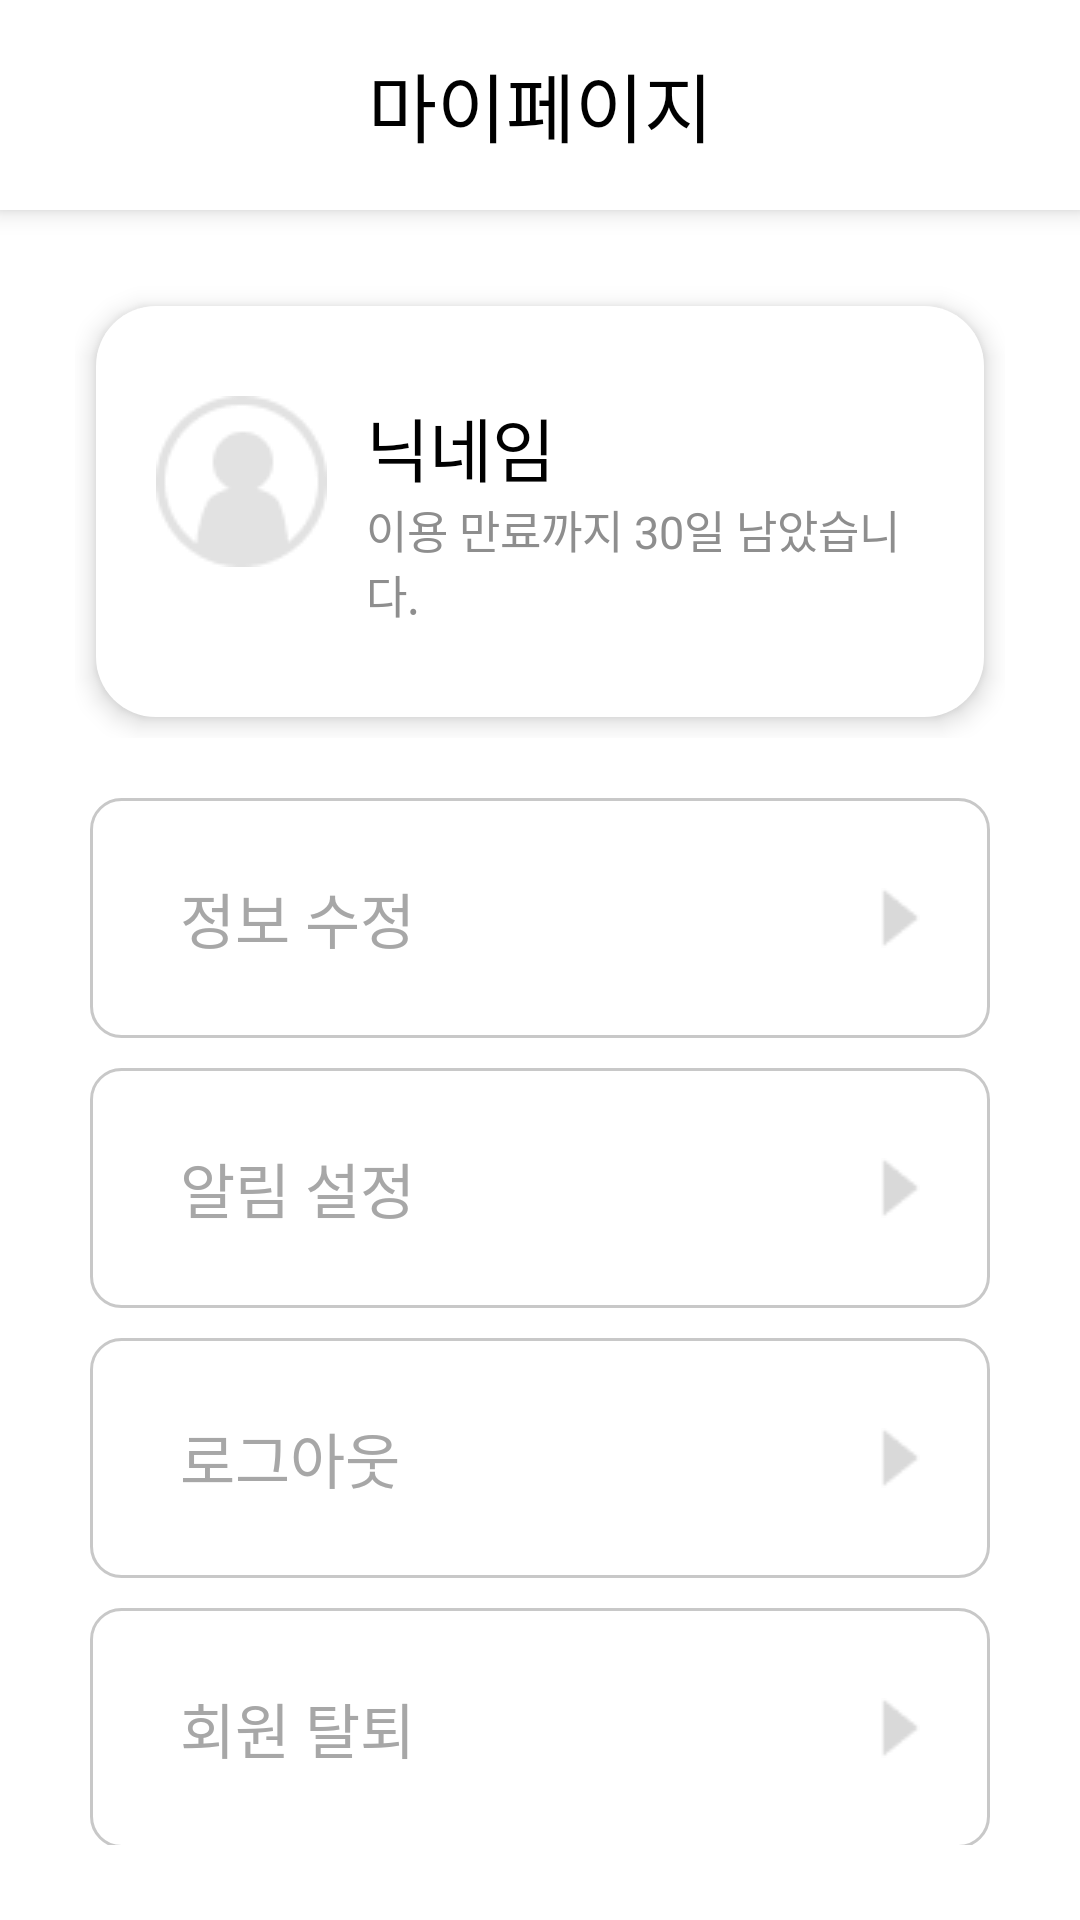

Screen size 1080*1920. Icon name, then its center in pixels as (x,y):
mypage user: (241,481)
